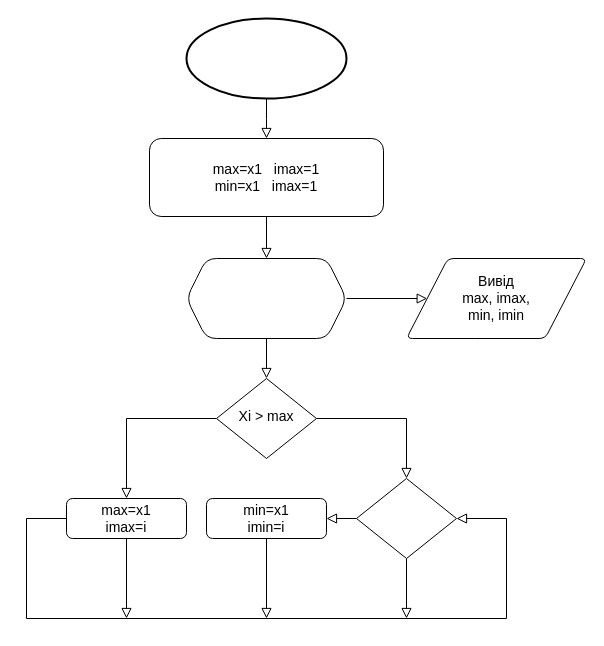
The diagram is 604 pixels wide and 646 high, and some of its shapes have lost their labels. The centre of each missing label's shape, as x and y in pixels:
i - 2, N: [266,298]
Xi < min: [406,518]
Початок: [266,58]
